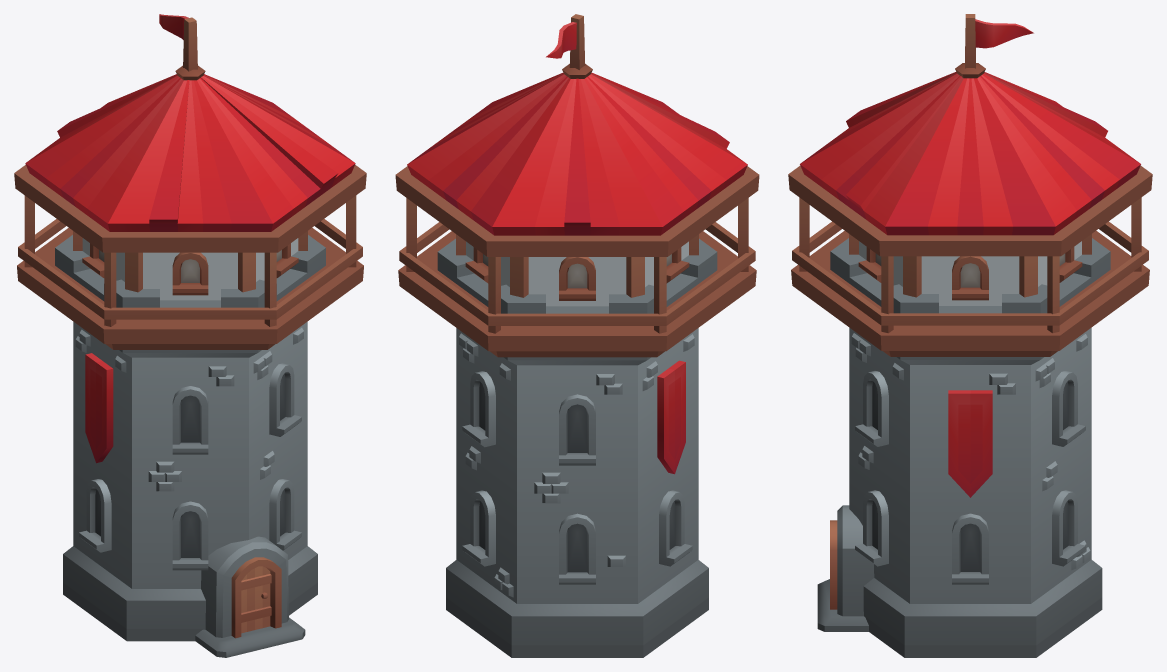
The model's file is building_tower_b_red.glb.
3 renders of one model, left to right at view 1: azimuth 30°, elevation 25°; view 2: azimuth 150°, elevation 25°; view 3: azimuth 270°, elevation 25°, orthographic. The views are drawn at different scales.
Visible parts, largest first — view 1: building_tower_B_red, building_tower_B_top_red; view 2: building_tower_B_red, building_tower_B_top_red; view 3: building_tower_B_red, building_tower_B_top_red.
Part boxes in pixels (box(x1,y1,x2,y2)): building_tower_B_red: box(55, 235, 325, 657); building_tower_B_top_red: box(14, 14, 366, 349); building_tower_B_red: box(437, 238, 717, 657); building_tower_B_top_red: box(395, 14, 759, 357); building_tower_B_red: box(817, 238, 1110, 657); building_tower_B_top_red: box(788, 14, 1152, 356).
Size of the model in its own units: 1.2 by 2.49 by 1.38.
Materials: 1 (1 with a texture image).
